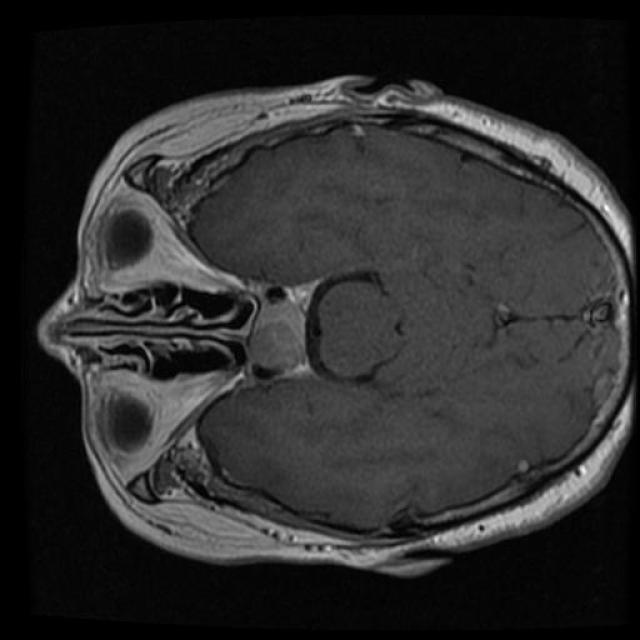Pituitary: (247, 286, 304, 378)
